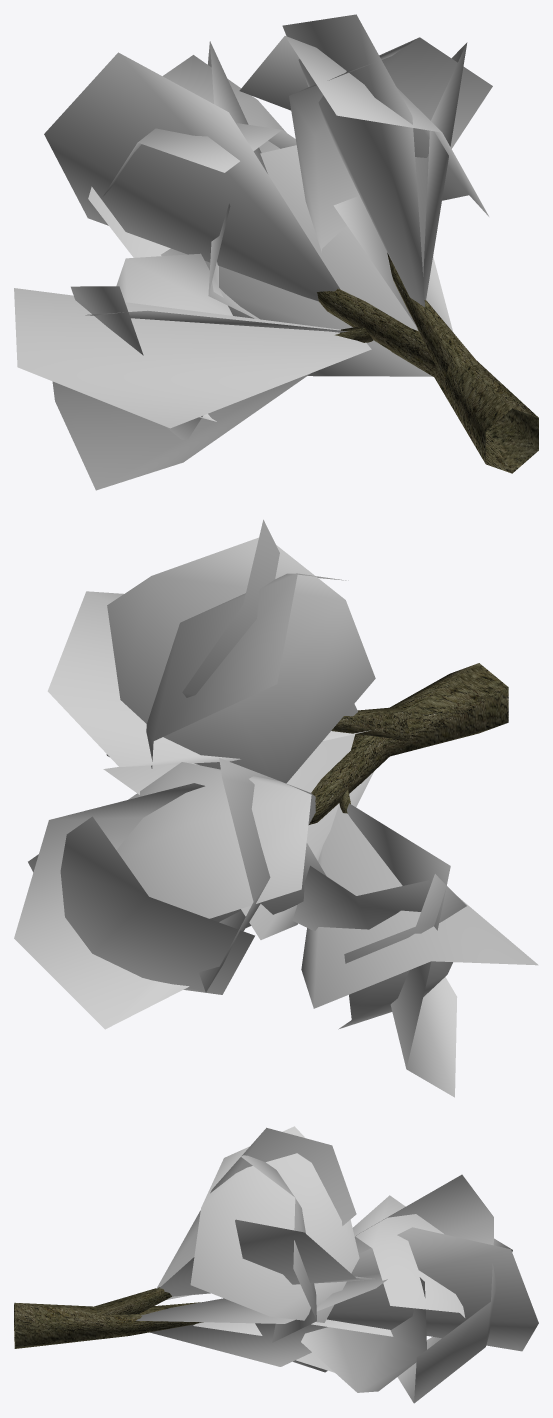
Rendered from MEP_Tree_04_b.fbx.
3 views of the same model, one above another, from view 1: azimuth 30°, elevation 25°; view 2: azimuth 150°, elevation 25°; view 3: azimuth 270°, elevation 25° (orthographic). The views are drawn at different scales.
Visible parts, largest first — view 1: MEP_Leafs_04_b, MEP_Bark_04_b; view 2: MEP_Leafs_04_b, MEP_Bark_04_b; view 3: MEP_Leafs_04_b, MEP_Bark_04_b.
Boxes of the visible parts, x1,y1,x2,y2 form: MEP_Leafs_04_b: [14, 14, 492, 490]; MEP_Bark_04_b: [317, 253, 538, 473]; MEP_Leafs_04_b: [14, 519, 538, 1097]; MEP_Bark_04_b: [309, 663, 508, 824]; MEP_Leafs_04_b: [135, 1126, 538, 1403]; MEP_Bark_04_b: [14, 1287, 203, 1348].
Size of the model in its own units: 7.35 by 7.03 by 10.43.
